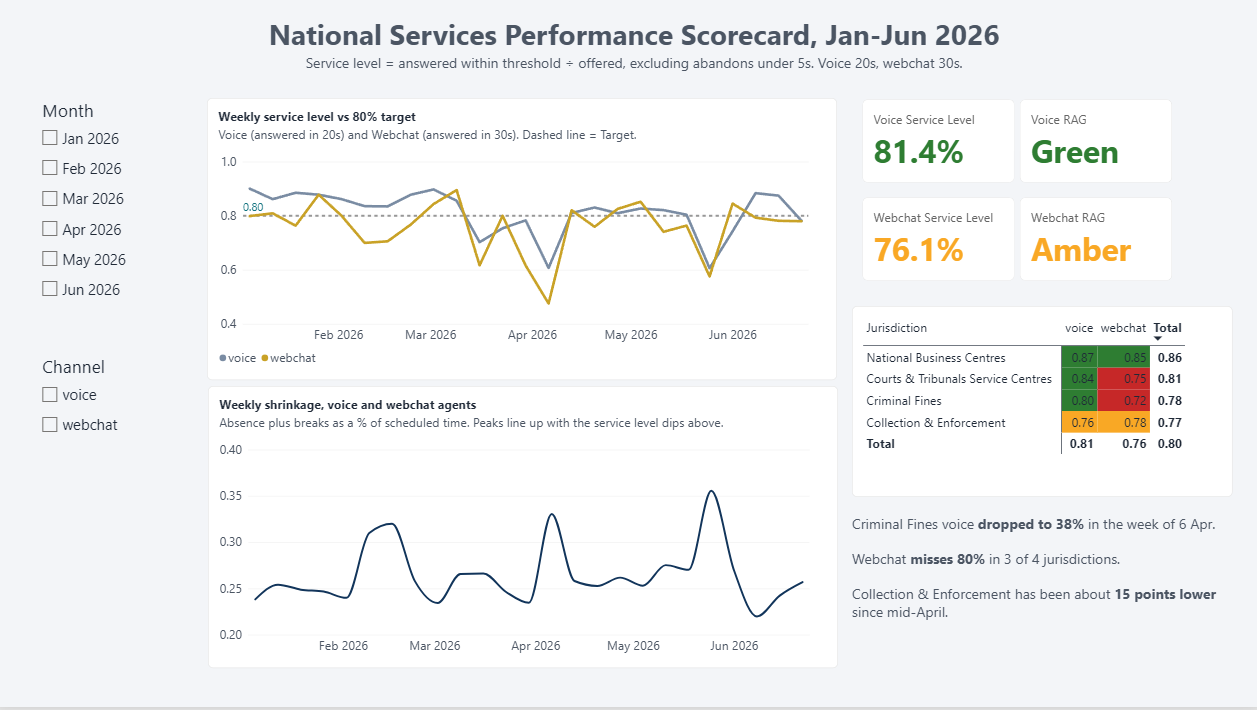

What the dashboard file says about the page in this screenshot:
{"tool":"powerbi","page":{"name":"Voice & Webchat","canvas":[1920,1080],"ordinal":0},"visuals":[{"type":"cardVisual","fields":{"Data":["_Measures.Webchat Service Level","_Measures.Webchat RAG"]},"box":[1314.5,299.7,477.3,131.3],"z":0},{"type":"textbox","box":[320,24,1298.7,126.7],"z":1000},{"type":"slicer","fields":{"Values":["dim_date.Month"]},"box":[58.7,150.7,250,330],"z":2000},{"type":"slicer","fields":{"Values":["fact_kpi_daily.channel"]},"box":[58.7,540.6,250.2,244.1],"z":3000},{"type":"lineChart","title":"Weekly service level vs 80% target","fields":{"Category":["dim_date.Week Start"],"Y":["_Measures.Service Level"],"Series":["fact_kpi_daily.channel"]},"box":[318.7,150.7,960,430],"z":4000},{"type":"pivotTable","fields":{"Rows":["dim_jurisdiction.jurisdiction"],"Columns":["fact_kpi_daily.channel"],"Values":["_Measures.Service Level"]},"box":[1300.6,468,580,290.7],"z":5000},{"type":"lineChart","title":"Weekly shrinkage, voice and webchat agents","fields":{"Category":["dim_date.Week Start"],"Y":["_Measures.Shrinkage"]},"box":[320,590,960,430],"z":6000},{"type":"textbox","box":[1300.6,784.7,579.2,234.8],"z":7000},{"type":"cardVisual","fields":{"Data":["_Measures.Voice Service Level","_Measures.Voice RAG"]},"box":[1314.5,151.4,477.3,131.3],"z":8000}]}

Visuals, with their boxes in screenshot pixels (x1, y1, x2, y2), scaled from the page's 1920x1080 canvas onto the 1257x710 screenshot:
cardVisual - _Measures.Webchat Service Level x _Measures.Webchat RAG: left=861, top=197, right=1173, bottom=283
textbox: left=210, top=16, right=1060, bottom=99
slicer - dim_date.Month: left=38, top=99, right=202, bottom=316
slicer - fact_kpi_daily.channel: left=38, top=355, right=202, bottom=516
"Weekly service level vs 80% target" lineChart: left=209, top=99, right=837, bottom=382
pivotTable - dim_jurisdiction.jurisdiction x fact_kpi_daily.channel: left=851, top=308, right=1231, bottom=499
"Weekly shrinkage, voice and webchat agents" lineChart: left=210, top=388, right=838, bottom=671
textbox: left=851, top=516, right=1231, bottom=670
cardVisual - _Measures.Voice Service Level x _Measures.Voice RAG: left=861, top=100, right=1173, bottom=186
